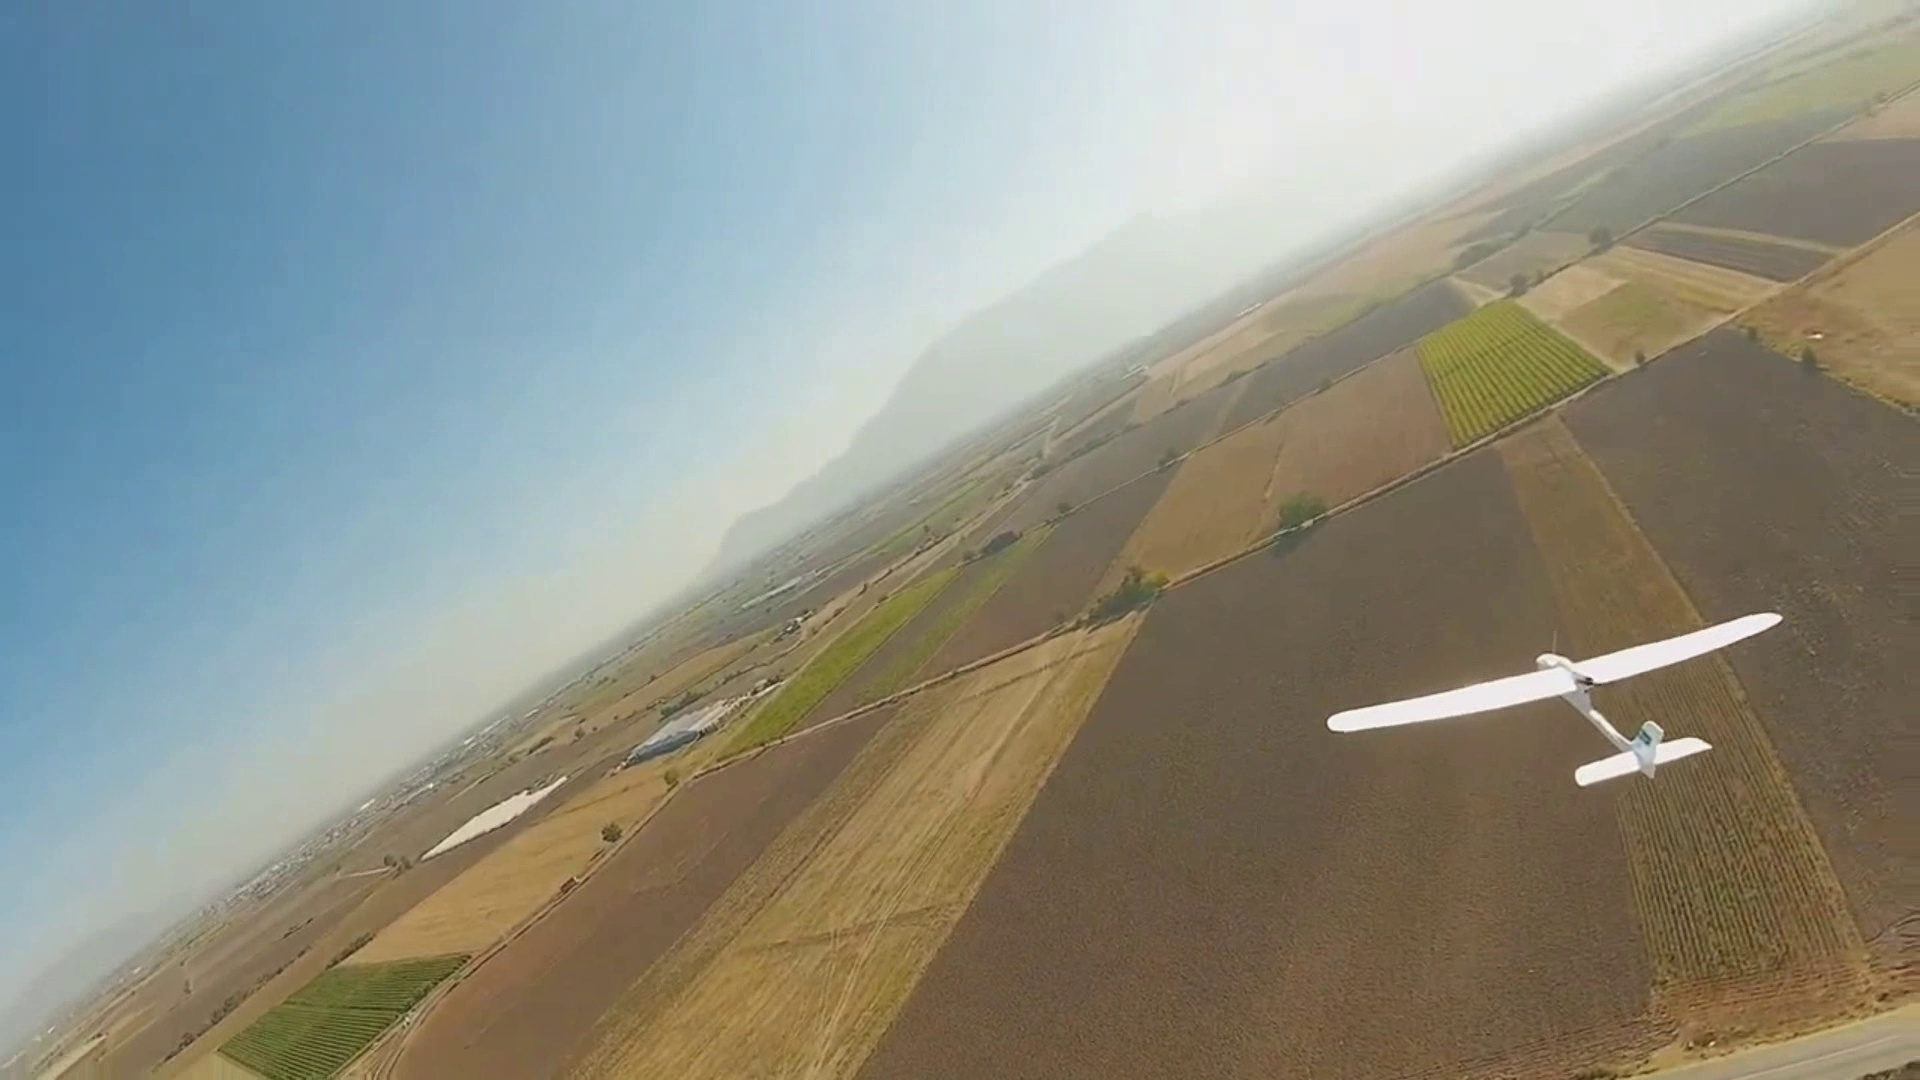airplane: (41, 13, 1907, 1068), (1327, 612, 1783, 787)
